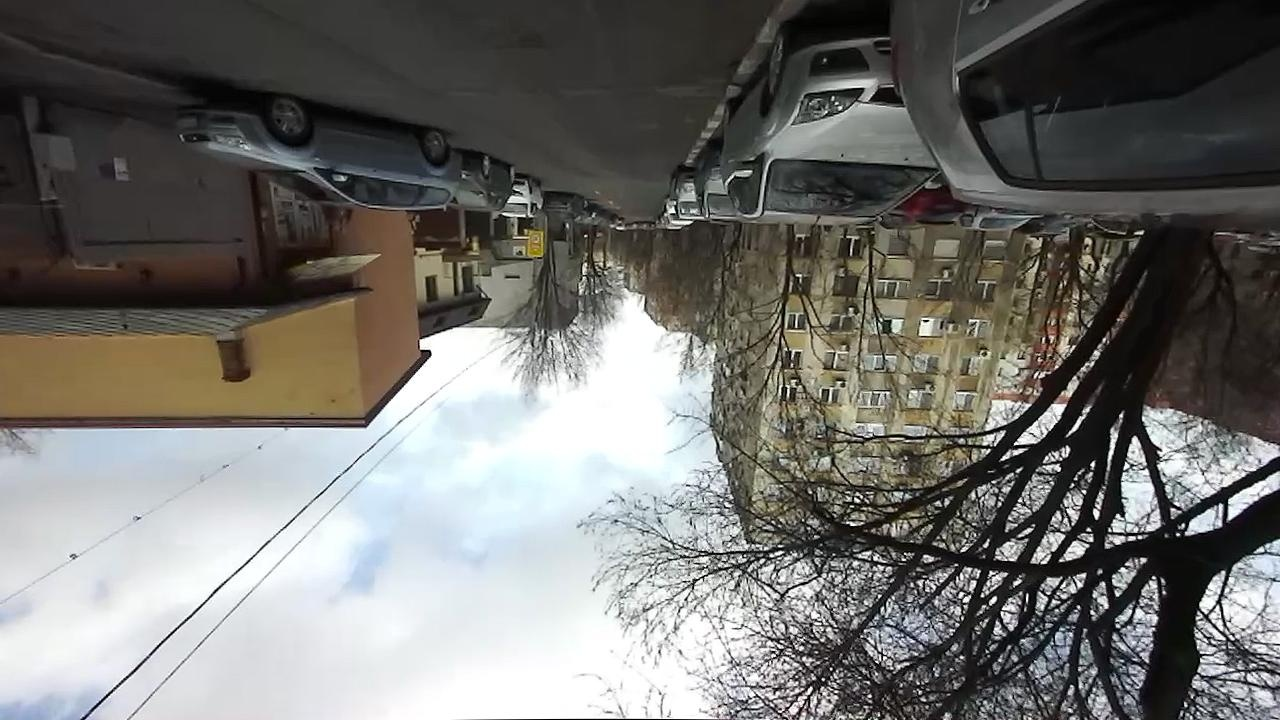pothole: (486, 24, 551, 57)
